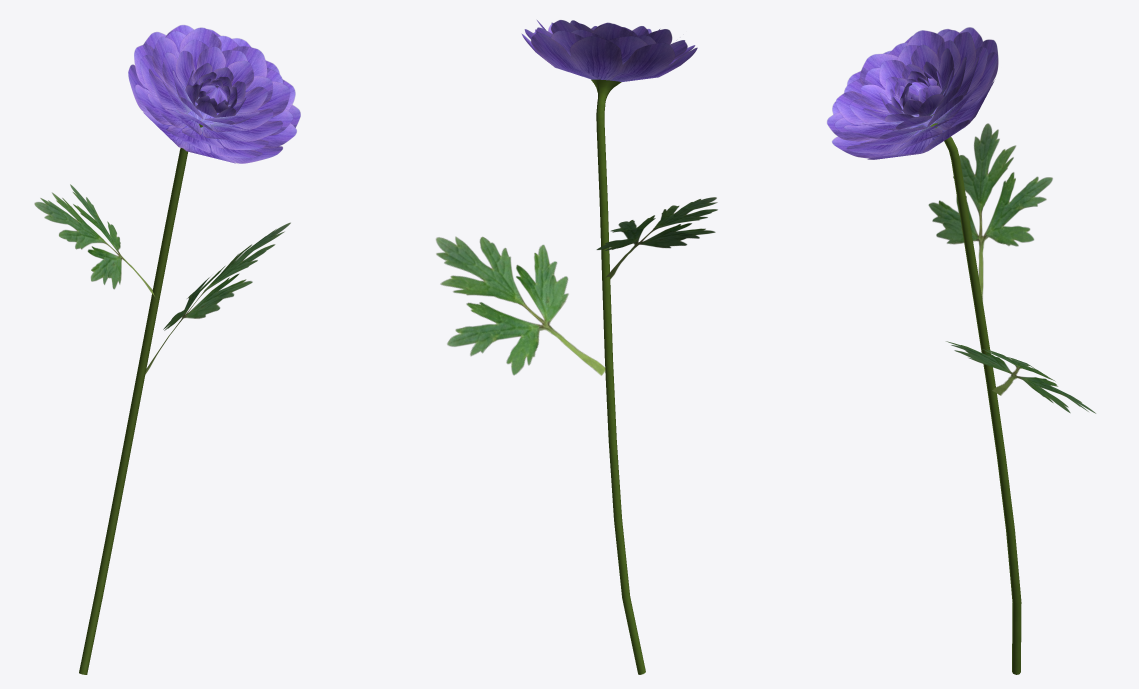
File: flor_roxa_2.glb
3 renders of one model, left to right at view 1: azimuth 30°, elevation 25°; view 2: azimuth 150°, elevation 25°; view 3: azimuth 270°, elevation 25°, orthographic. The views are drawn at different scales.
Parts seen in each view (by area): view 1: Cylinder; view 2: Cylinder; view 3: Cylinder.
Part boxes in pixels (left/top/right/bottom): Cylinder: left=34, top=25, right=300, bottom=674; Cylinder: left=436, top=20, right=717, bottom=674; Cylinder: left=827, top=27, right=1095, bottom=674.
Size of the model in its own units: 0.2054 by 0.384 by 0.1604.
2 materials, 2 textured.
